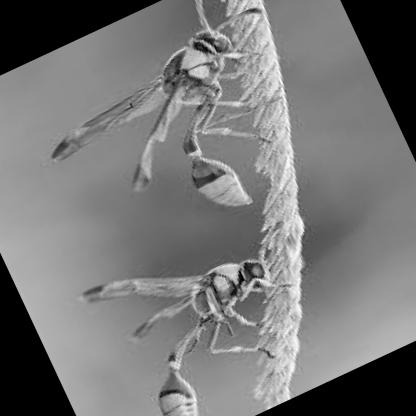other: (61, 0, 337, 256), (77, 219, 336, 415)
